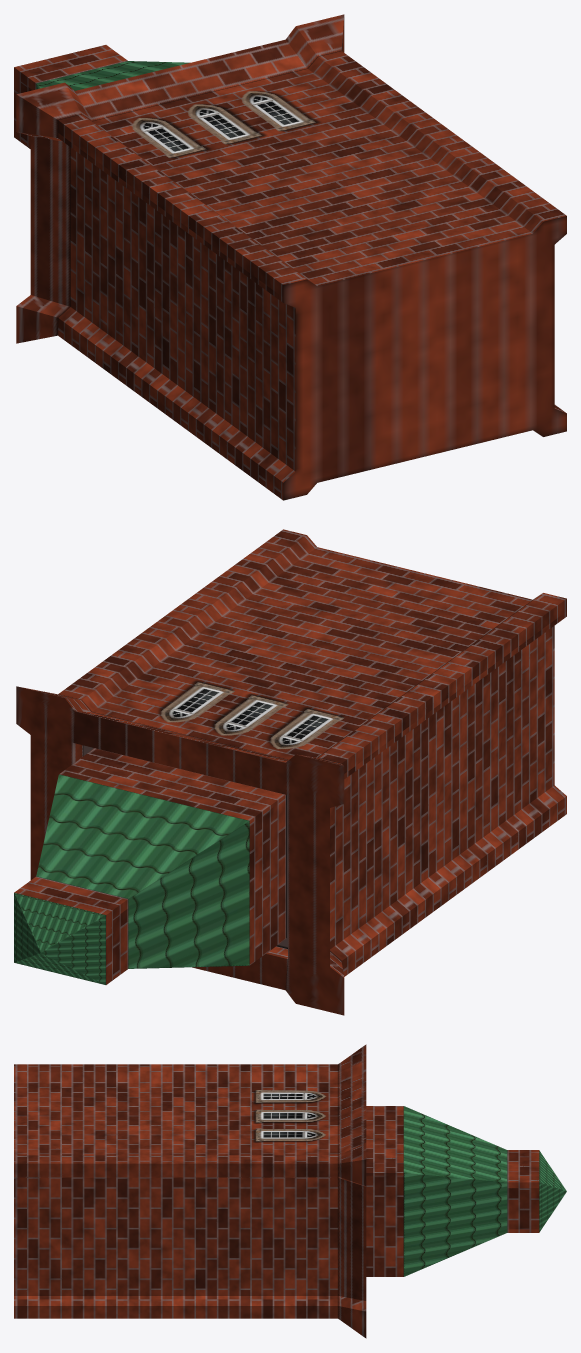
The model's file is SquereTower.fbx.
3 renders of one model, top to bottom at view 1: azimuth 30°, elevation 25°; view 2: azimuth 150°, elevation 25°; view 3: azimuth 270°, elevation 25°, orthographic. The views are drawn at different scales.
Visible parts, largest first — view 1: Squre tower; view 2: Squre tower; view 3: Squre tower.
Boxes of the visible parts, x1,y1,x2,y2 form: Squre tower: (14, 14, 566, 500); Squre tower: (14, 529, 566, 1015); Squre tower: (14, 1044, 566, 1338).
Bounding box in the file's own units: 1000 × 726 × 2030.
